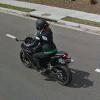Motorcycle: (11, 32, 81, 86)
